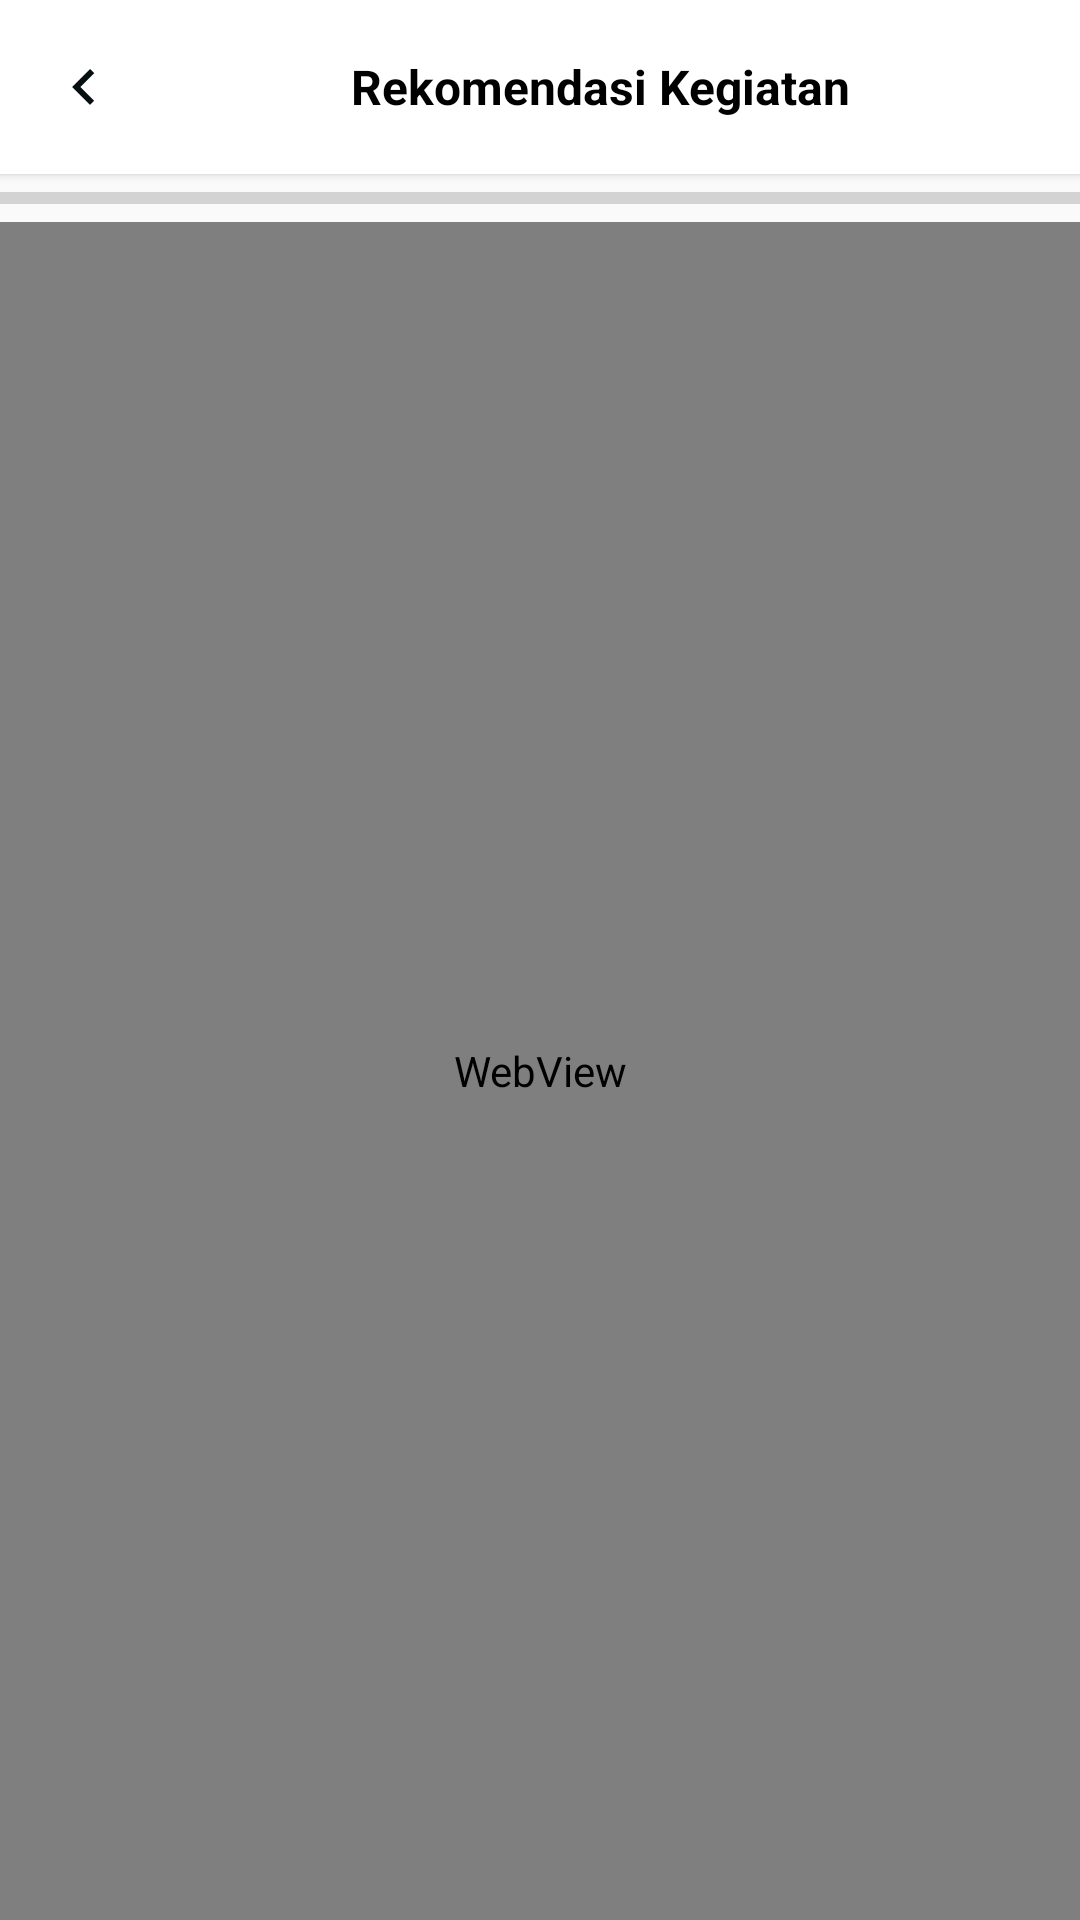

Named icons in this screenshot (1080 x 1920) and their bounding boxes, (x1, y1, x2, y2):
back: (72, 69, 94, 105)
